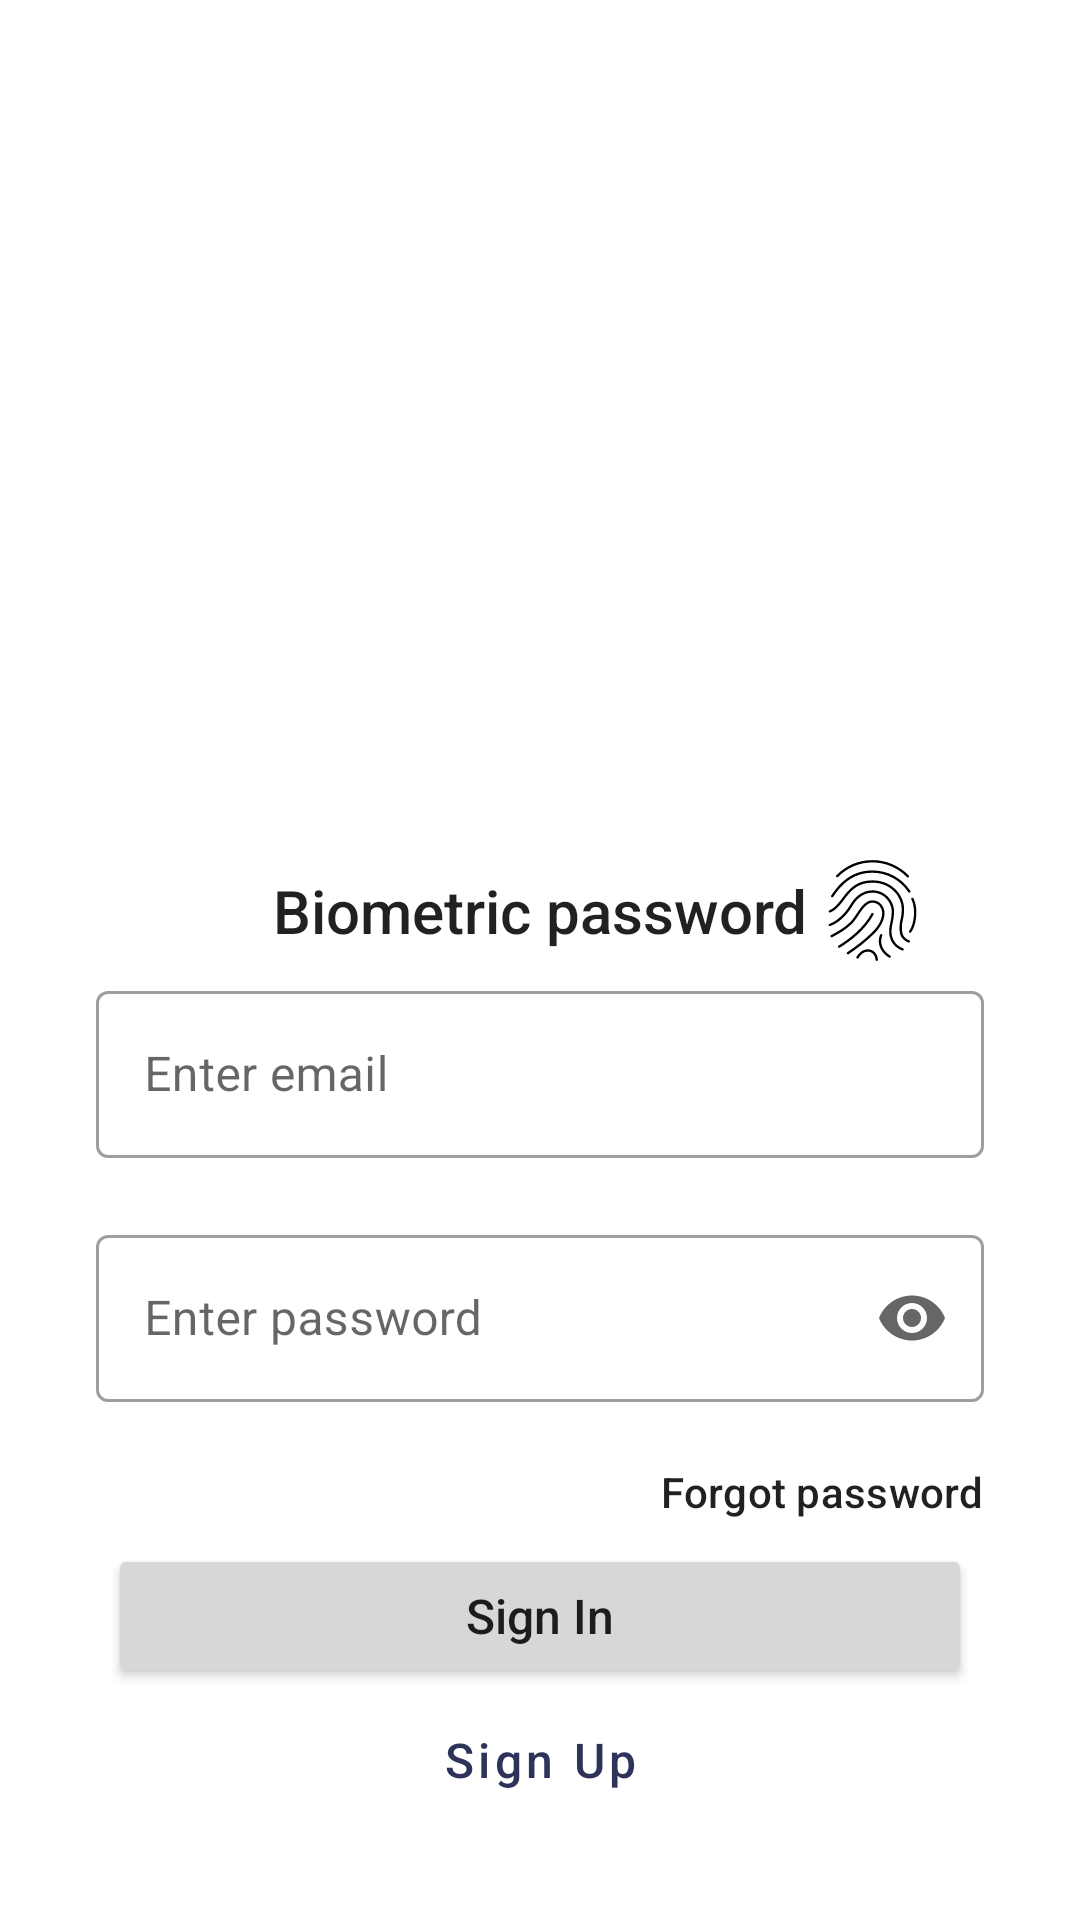

Named icons in this screenshot (1080w x 1920h) and their bounding boxes, (x1, y1, x2, y2):
touch id: (828, 860, 917, 961)
